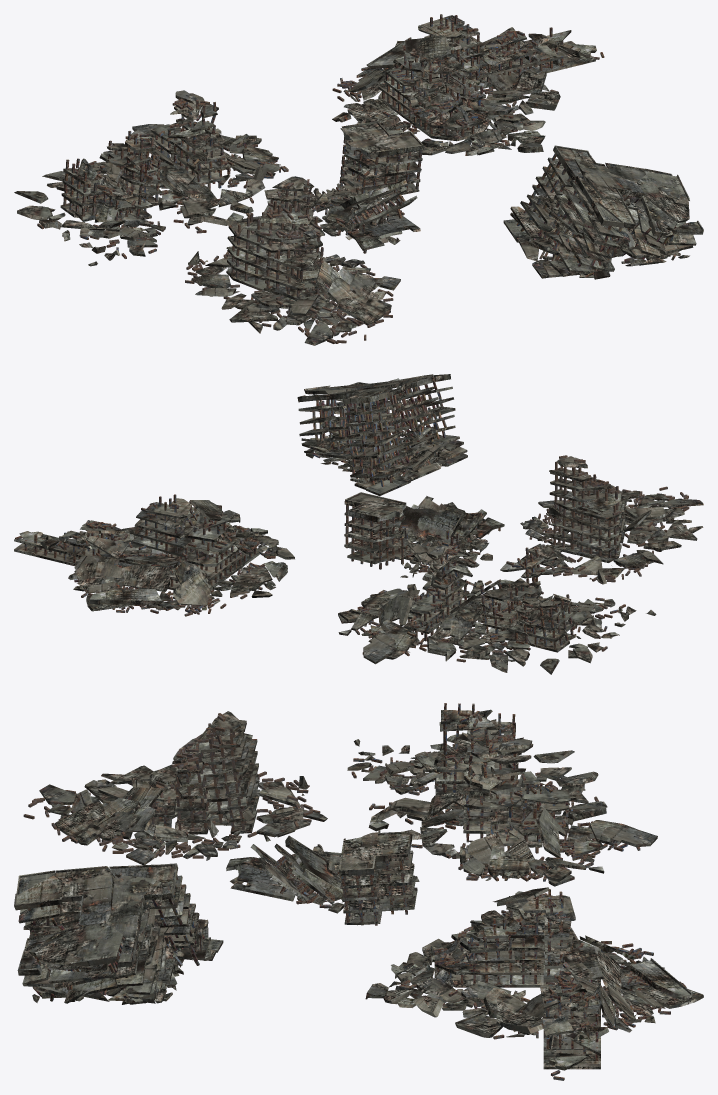
The model's file is city_ruins_environment.glb.
The picture shows the model from 3 angles, top to bottom: view 1: azimuth 30°, elevation 25°; view 2: azimuth 150°, elevation 25°; view 3: azimuth 270°, elevation 25°; orthographic projection. The views are drawn at different scales.
Parts seen in each view (by area): view 1: ruim.005, ruim.007, ruim.006, ruim.009, ruim.008; view 2: ruim.005, ruim.007, ruim.009, ruim.006, ruim.008; view 3: ruim.005, ruim.007, ruim.009, ruim.006, ruim.008.
Part boxes in pixels (box(x1,y1,x2,y2)): ruim.005: box(332, 14, 604, 155); ruim.007: box(14, 90, 288, 266); ruim.006: box(185, 176, 400, 345); ruim.009: box(503, 145, 703, 279); ruim.008: box(305, 121, 423, 253); ruim.005: box(14, 494, 294, 616); ruim.007: box(338, 530, 656, 674); ruim.009: box(297, 374, 467, 495); ruim.006: box(520, 455, 703, 584); ruim.008: box(344, 492, 504, 581); ruim.005: box(365, 887, 703, 1080); ruim.007: box(347, 703, 657, 886); ruim.009: box(14, 863, 223, 1004); ruim.006: box(23, 711, 327, 864); ruim.008: box(226, 829, 419, 925).
Bounding box in the file's own units: 309 × 47.07 × 265.
Materials: 2 (2 with a texture image).
